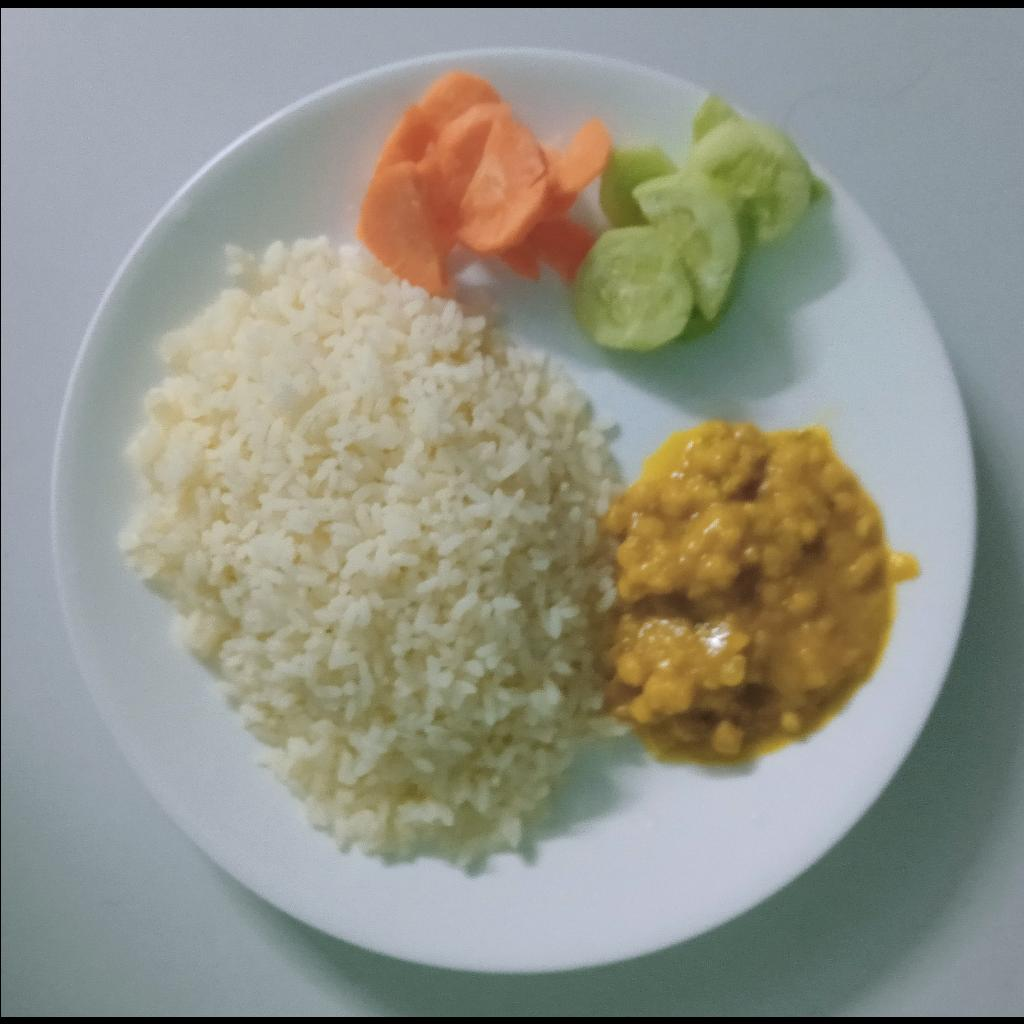carrot: (355, 71, 611, 294)
cucumber: (568, 90, 831, 350)
daal: (607, 421, 894, 766)
rice: (111, 237, 623, 868)
